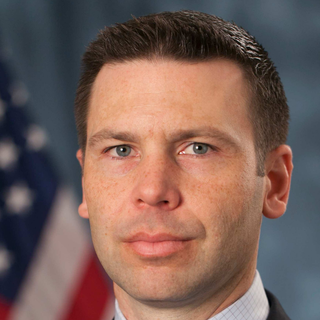eye: (173, 138, 222, 162), (97, 139, 140, 164)
